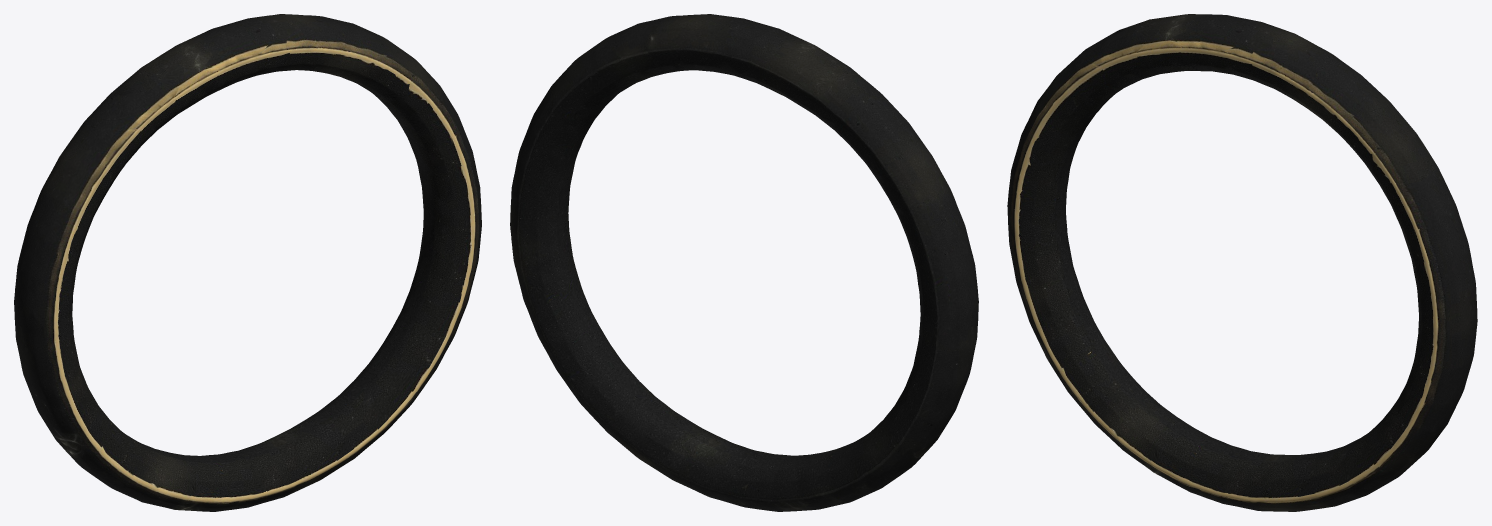
File: ring_onyx.glb
The picture shows the model from 3 angles, left to right: view 1: azimuth 30°, elevation 25°; view 2: azimuth 150°, elevation 25°; view 3: azimuth 330°, elevation 25°; orthographic projection.
Parts seen in each view (by area): view 1: Mesh_0; view 2: Mesh_0; view 3: Mesh_0.
Part boxes in pixels (left/top/right/bottom): Mesh_0: left=14, top=14, right=481, bottom=511; Mesh_0: left=510, top=14, right=978, bottom=511; Mesh_0: left=1007, top=14, right=1477, bottom=511.
Size of the model in its own units: 2.22 by 2.22 by 0.2876.
1 material, 1 textured.
